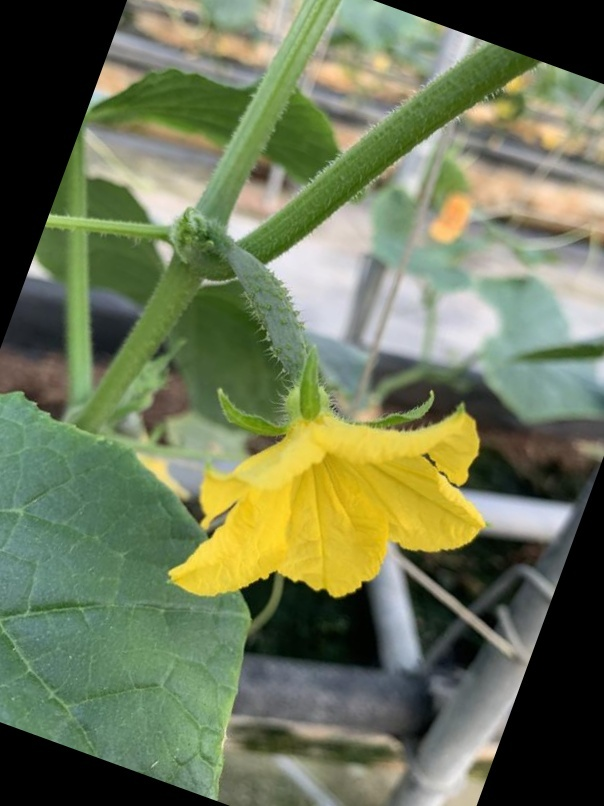flowering: (179, 244, 493, 624)
